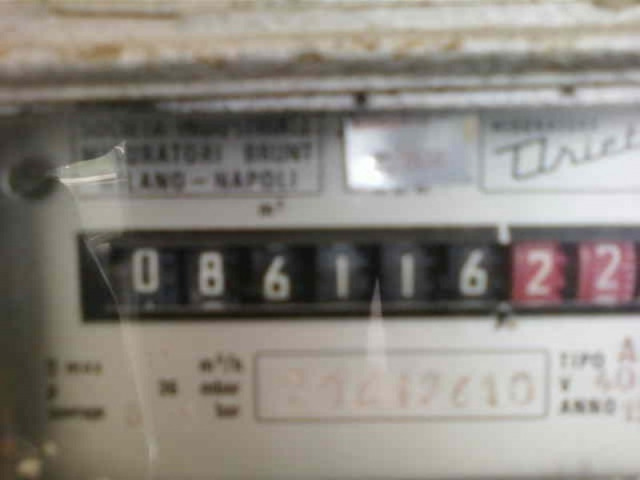ssgc: (78, 231, 639, 318)
